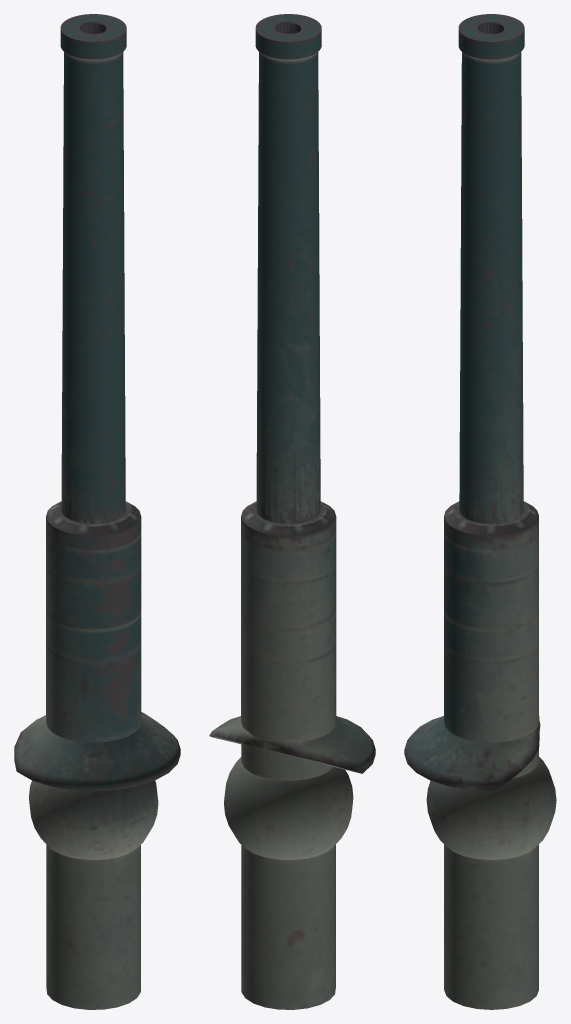
File: Gun_02.glb
3 renders of one model, left to right at view 1: azimuth 30°, elevation 25°; view 2: azimuth 150°, elevation 25°; view 3: azimuth 270°, elevation 25°, orthographic.
Visible parts, largest first — view 1: set_0_group_0; view 2: set_0_group_0; view 3: set_0_group_0.
Boxes of the visible parts, x1,y1,x2,y2 form: set_0_group_0: (14,14,180,1009); set_0_group_0: (209,14,375,1009); set_0_group_0: (404,14,556,1009).
Bounding box in the file's own units: 0.5001 × 3.05 × 0.4365.
1 material, 1 textured.
